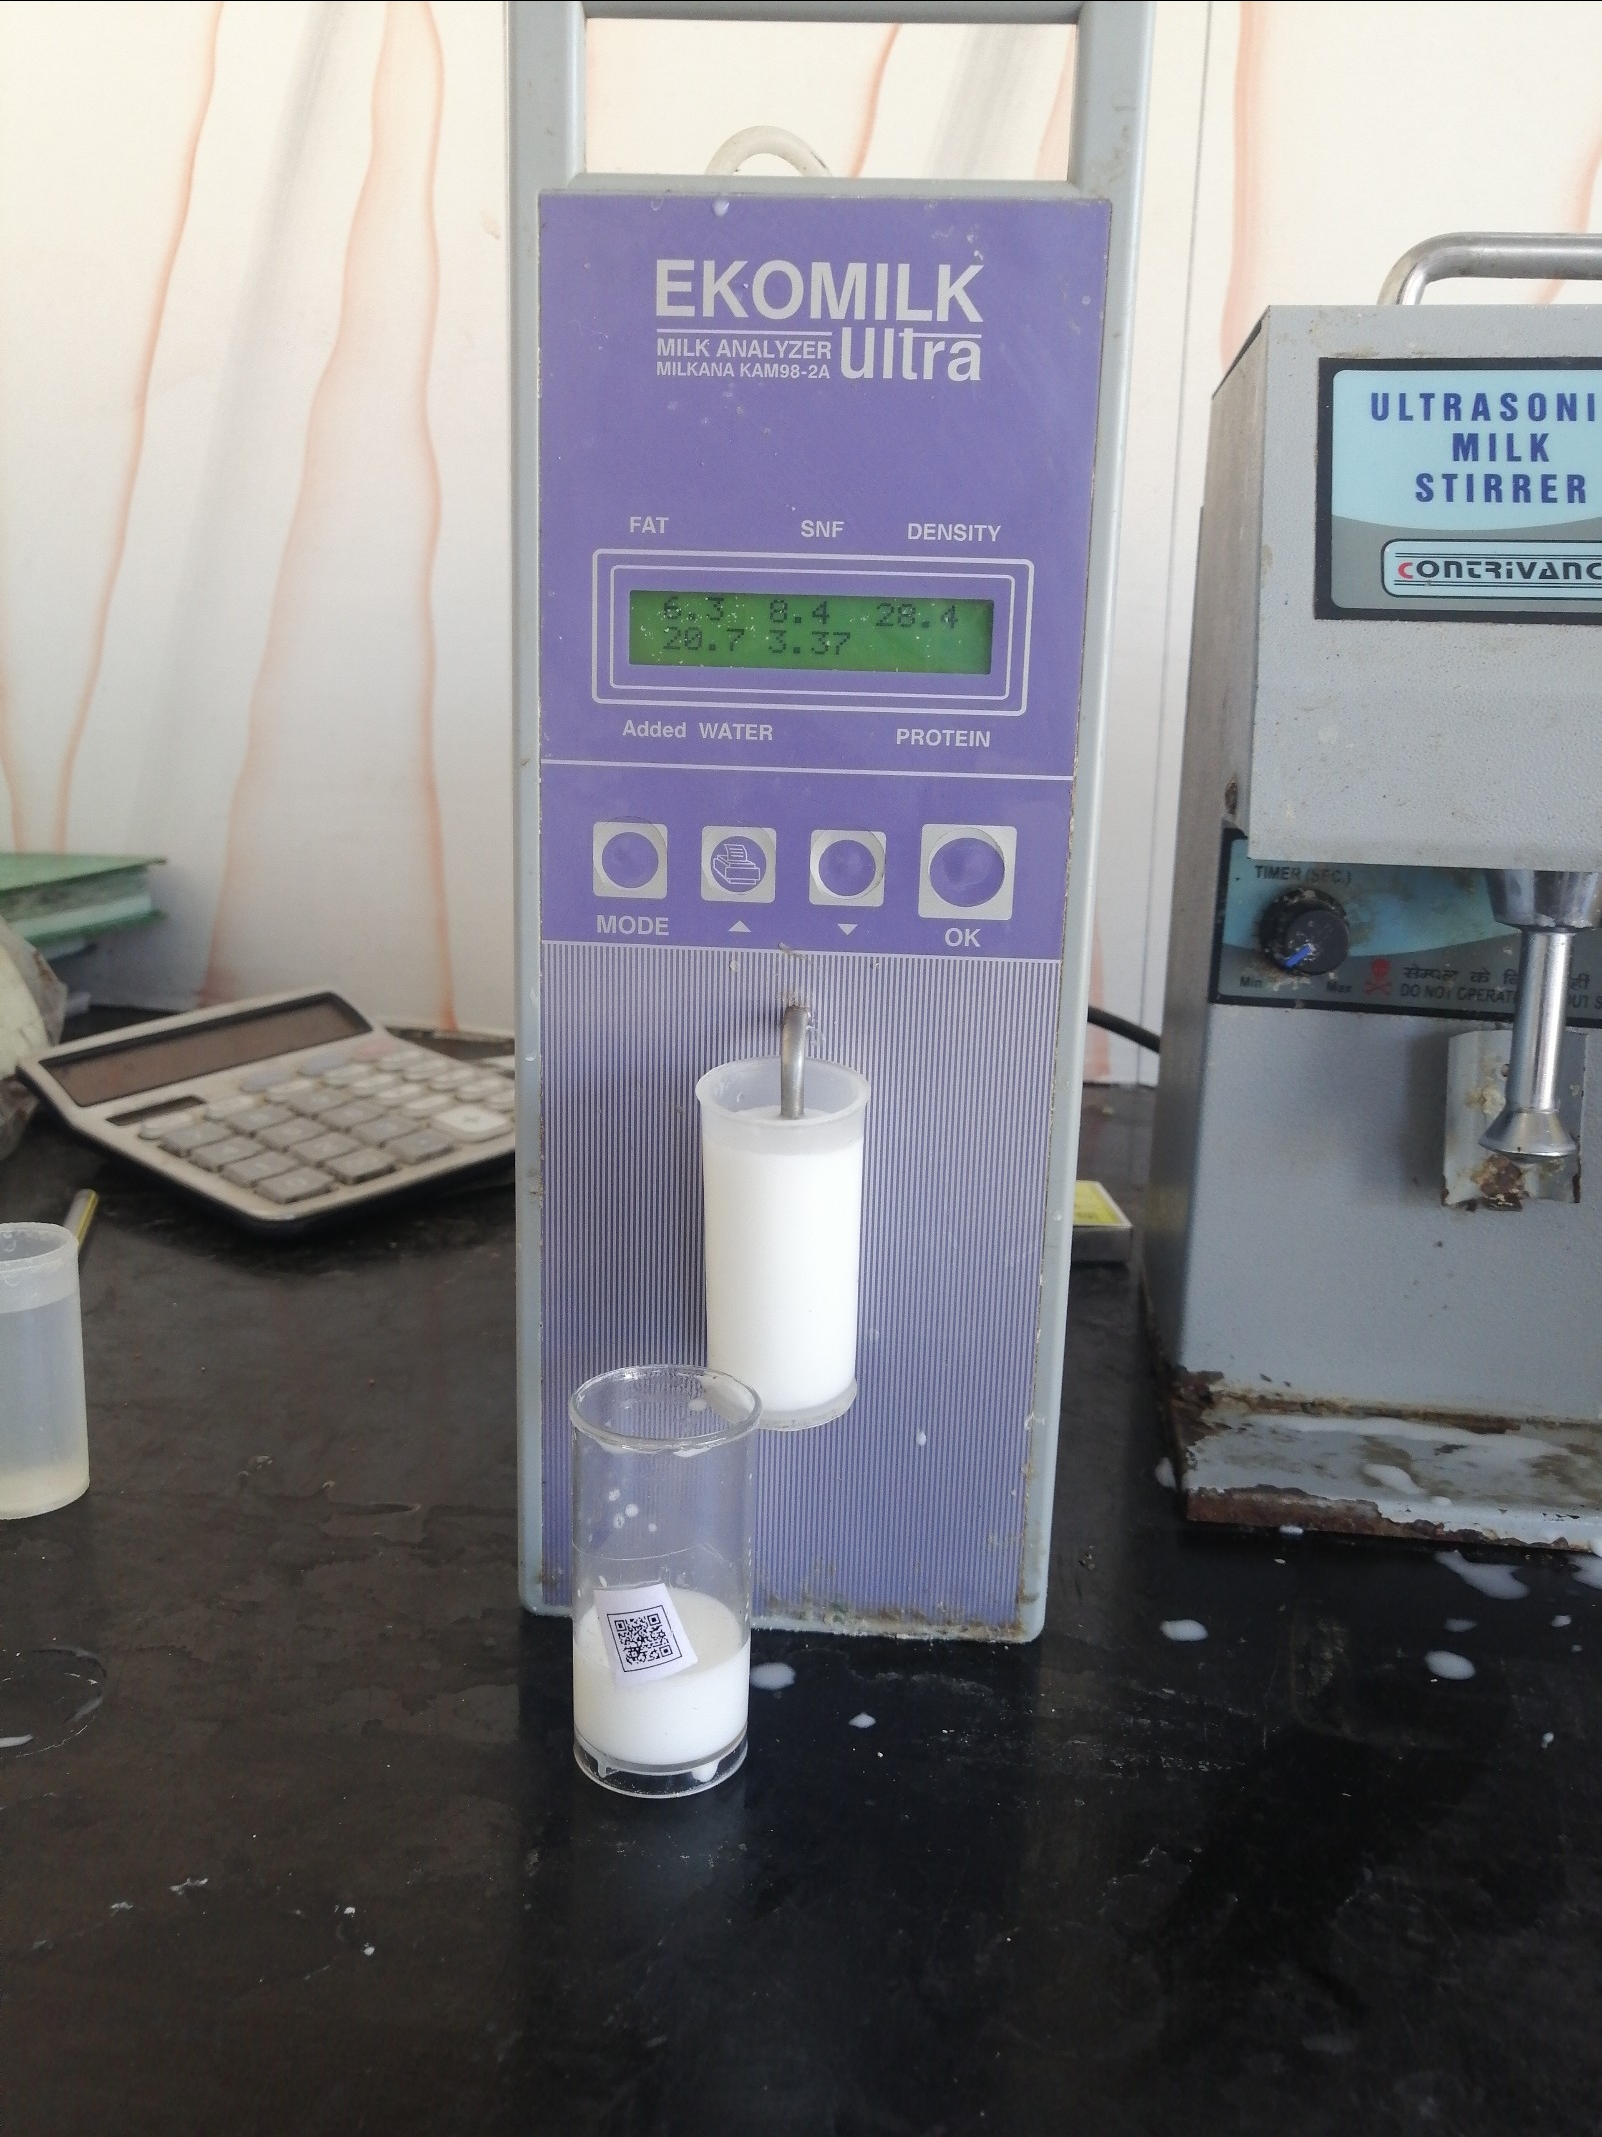lcd: (614, 579, 1005, 688)
qr: (592, 1599, 695, 1678)
